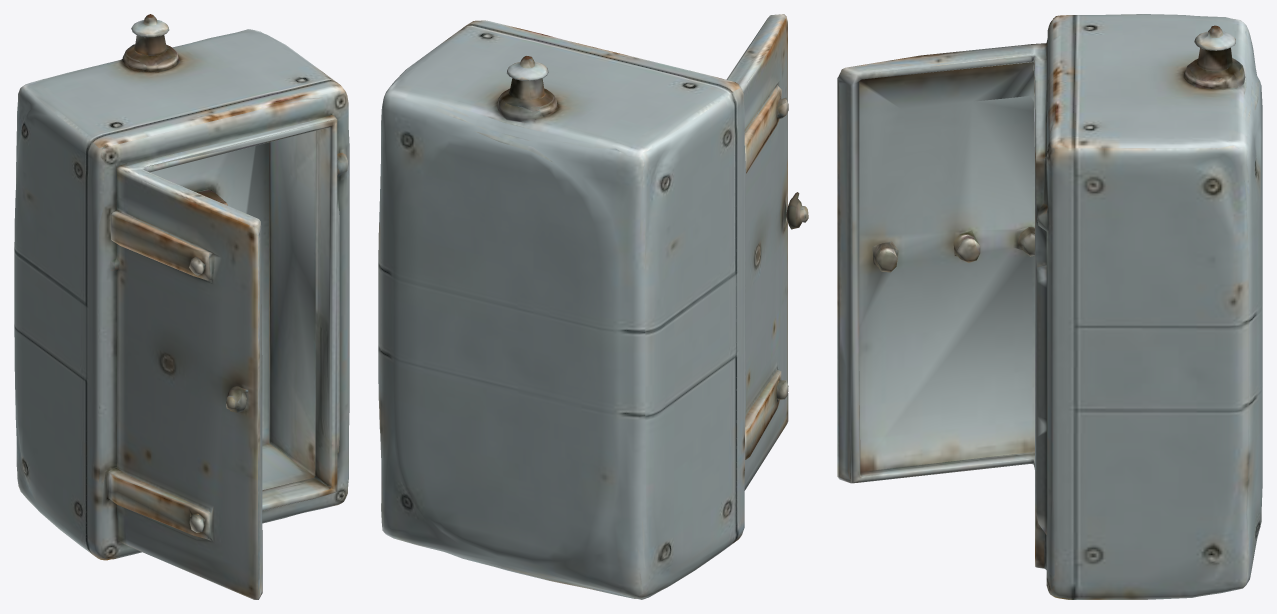
The model's file is fusebox.glb.
3 views of the same model, side by side, from view 1: azimuth 30°, elevation 25°; view 2: azimuth 150°, elevation 25°; view 3: azimuth 270°, elevation 25° (orthographic). The views are drawn at different scales.
Bounding box in the file's own units: 1.08 × 1.9 × 1.43.
1 material, 1 textured.
